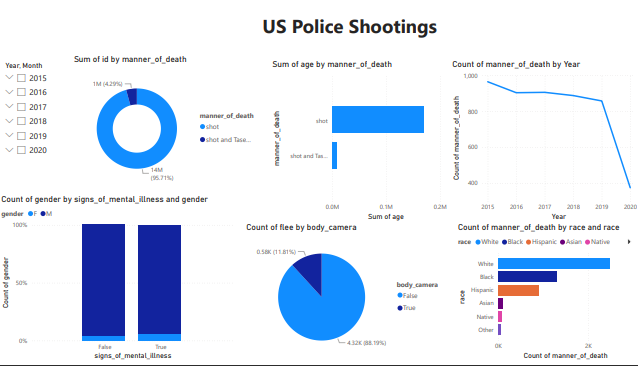

Layout of this report page (visuals, bound fields, positions):
{"tool":"powerbi","page":{"name":"Page 1","canvas":[1280,720],"ordinal":0},"visuals":[{"type":"barChart","fields":{"Category":["shootings.race"],"Y":["CountNonNull(shootings.manner_of_death)"],"Series":["shootings.race"]},"box":[912.5,440.4,367.5,279.4],"z":0},{"type":"donutChart","fields":{"Category":["shootings.manner_of_death"],"Y":["Sum(shootings.id)"]},"box":[144.5,103.2,385.4,279.4],"z":1000},{"type":"slicer","fields":{"Values":["shootings.date.Variation.Date Hierarchy.Year","shootings.date.Variation.Date Hierarchy.Month"]},"box":[0,112.9,144.5,236.7],"z":2000},{"type":"lineChart","fields":{"Category":["shootings.date.Variation.Date Hierarchy.Year","shootings.date.Variation.Date Hierarchy.Month"],"Y":["CountNonNull(shootings.manner_of_death)"]},"box":[901.5,112.9,378.5,327.6],"z":3000},{"type":"barChart","fields":{"Category":["shootings.manner_of_death"],"Y":["Sum(shootings.age)"]},"box":[542.3,112.9,359.2,327.6],"z":4000},{"type":"pieChart","fields":{"Category":["shootings.body_camera"],"Y":["CountNonNull(shootings.flee)"]},"box":[490,440.4,411.5,279.4],"z":5000},{"type":"hundredPercentStackedColumnChart","fields":{"Category":["shootings.signs_of_mental_illness"],"Y":["CountNonNull(shootings.gender)"],"Series":["shootings.gender"]},"box":[0,382.6,474.8,337.2],"z":6000},{"type":"textbox","box":[490,11,422.5,71.6],"z":7000}]}

Visuals, with their boxes in screenshot pixels (x1, y1, x2, y2), scaled from the page's 1280x720 canvas onto the 638x366 screenshot:
barChart - shootings.race x CountNonNull(shootings.manner_of_death): (x1=455, y1=224, x2=637, y2=365)
donutChart - shootings.manner_of_death x Sum(shootings.id): (x1=72, y1=52, x2=264, y2=194)
slicer - shootings.date.Variation.Date Hierarchy.Year x shootings.date.Variation.Date Hierarchy.Month: (x1=0, y1=57, x2=72, y2=178)
lineChart - shootings.date.Variation.Date Hierarchy.Year x shootings.date.Variation.Date Hierarchy.Month: (x1=449, y1=57, x2=637, y2=224)
barChart - shootings.manner_of_death x Sum(shootings.age): (x1=270, y1=57, x2=449, y2=224)
pieChart - shootings.body_camera x CountNonNull(shootings.flee): (x1=244, y1=224, x2=449, y2=365)
hundredPercentStackedColumnChart - shootings.signs_of_mental_illness x CountNonNull(shootings.gender): (x1=0, y1=194, x2=237, y2=365)
textbox: (x1=244, y1=6, x2=455, y2=42)
